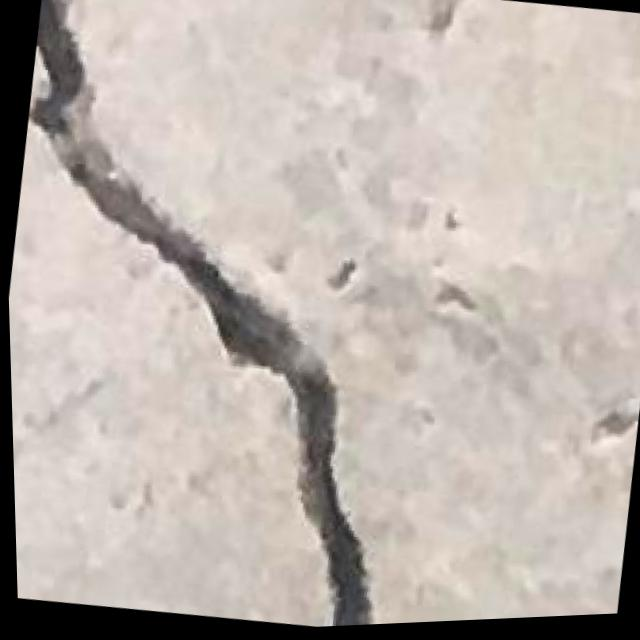Crack: (0, 0, 464, 640)
